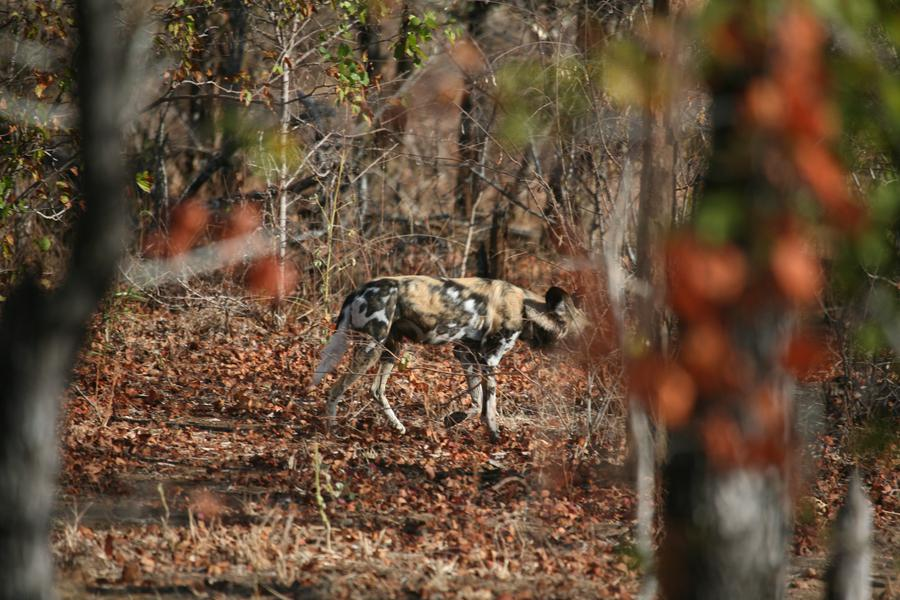wilddog: (327, 273, 578, 417)
